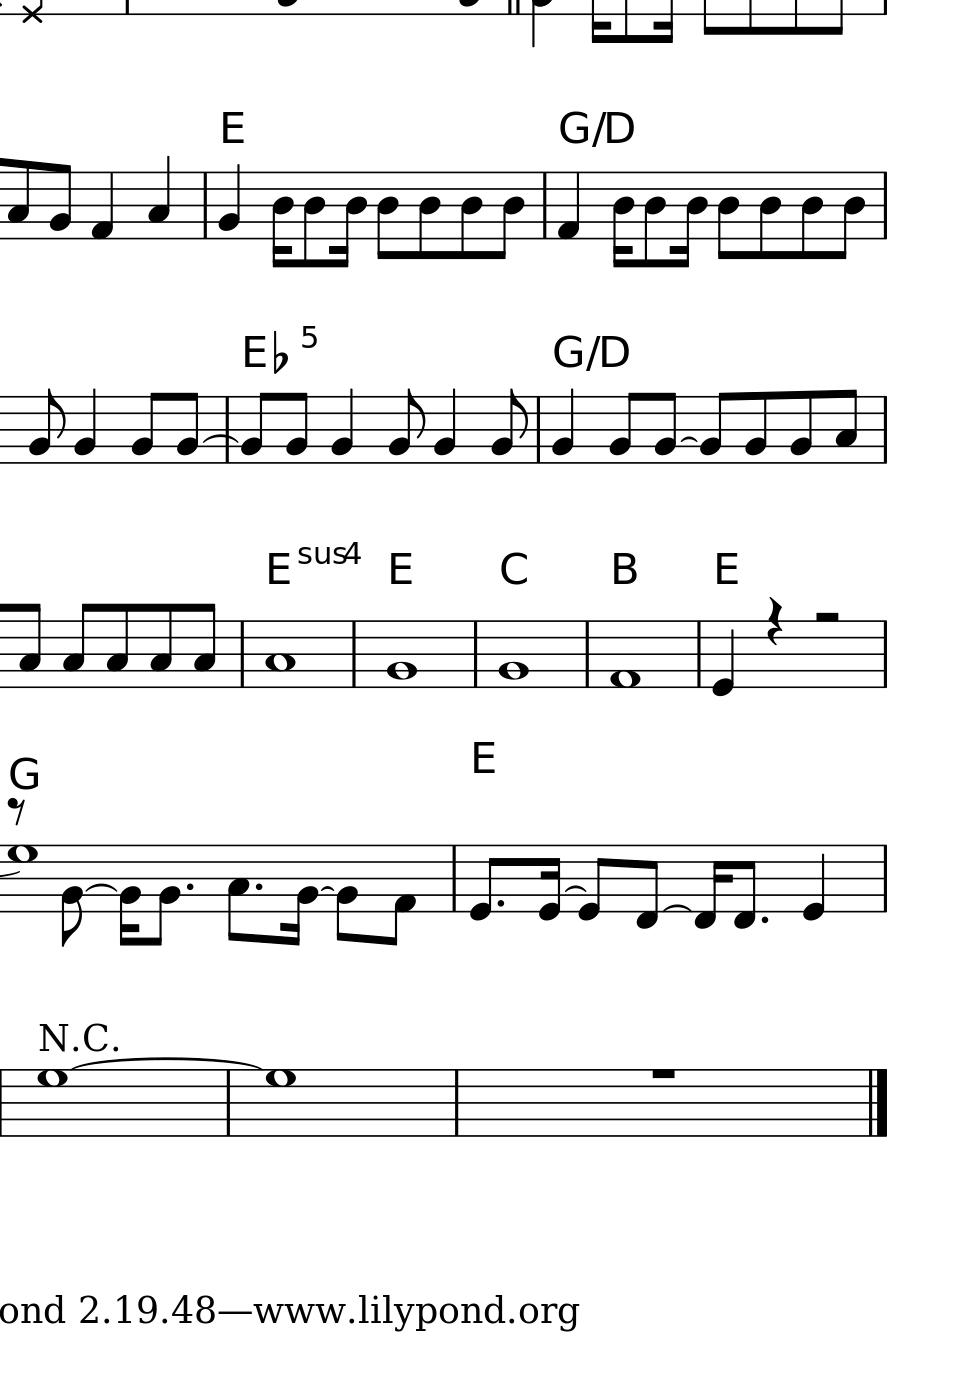16_-1: (693, 842, 729, 931), (733, 843, 757, 931)
16_0: (535, 843, 562, 924)
16_2: (279, 843, 318, 948), (116, 843, 142, 948)
16_4: (669, 170, 708, 271), (329, 170, 367, 271), (609, 170, 634, 271), (269, 170, 294, 271)
1_1: (608, 617, 642, 694)
1_2: (384, 618, 418, 690), (496, 618, 530, 690)
1_3: (264, 617, 295, 690)
1_7: (35, 1066, 70, 1140), (263, 1067, 297, 1139)
4_0: (799, 842, 827, 923), (708, 618, 735, 699)
4_1: (87, 170, 115, 242), (555, 170, 581, 242)
4_2: (328, 386, 355, 466), (431, 386, 458, 464), (72, 386, 99, 464), (549, 386, 575, 464), (215, 162, 241, 240)
4_3: (146, 155, 171, 240)
8_-1: (633, 842, 660, 932)
8_0: (467, 842, 502, 923), (575, 841, 610, 922)
8_1: (385, 843, 417, 947)
8_2: (148, 842, 180, 948), (27, 386, 66, 464), (489, 386, 528, 464), (386, 386, 424, 464), (59, 842, 83, 949), (334, 844, 358, 945), (606, 390, 638, 464), (129, 390, 161, 464), (238, 390, 269, 464), (697, 390, 729, 464), (47, 162, 72, 241), (174, 390, 200, 466), (788, 388, 813, 464), (283, 390, 309, 466), (742, 389, 768, 464), (652, 390, 677, 464)
8_3: (62, 601, 92, 691), (225, 842, 249, 944), (104, 602, 132, 691), (148, 601, 175, 690), (191, 600, 217, 689), (17, 601, 41, 690), (5, 158, 31, 242), (834, 387, 858, 466)
8_4: (492, 170, 526, 262), (836, 170, 867, 262), (641, 170, 665, 271), (300, 171, 325, 271), (416, 170, 441, 263), (798, 170, 823, 262), (715, 171, 740, 262), (375, 170, 400, 262), (458, 171, 483, 263), (756, 170, 781, 262)
8_7: (6, 843, 38, 914)
Final_barline: (863, 1068, 890, 1136)
Rests1: (647, 1065, 679, 1083)
Rests2: (811, 607, 842, 627)
Rests4: (766, 596, 784, 647)
Single_barline: (876, 394, 893, 464), (218, 1071, 237, 1136), (876, 620, 893, 688), (234, 621, 251, 688), (467, 621, 484, 687), (877, 171, 893, 240), (346, 621, 362, 688), (692, 621, 707, 688), (448, 1070, 463, 1137), (197, 172, 213, 238), (579, 621, 595, 687), (447, 846, 462, 912), (530, 396, 545, 464), (537, 172, 552, 239), (877, 845, 892, 912), (1, 1069, 11, 1136)
Slur: (68, 1058, 268, 1070), (202, 433, 239, 444), (85, 884, 117, 893), (662, 903, 692, 912), (562, 885, 588, 894), (678, 435, 699, 443)
dot: (183, 881, 196, 894), (252, 881, 265, 894), (758, 912, 770, 925), (494, 898, 505, 909)
